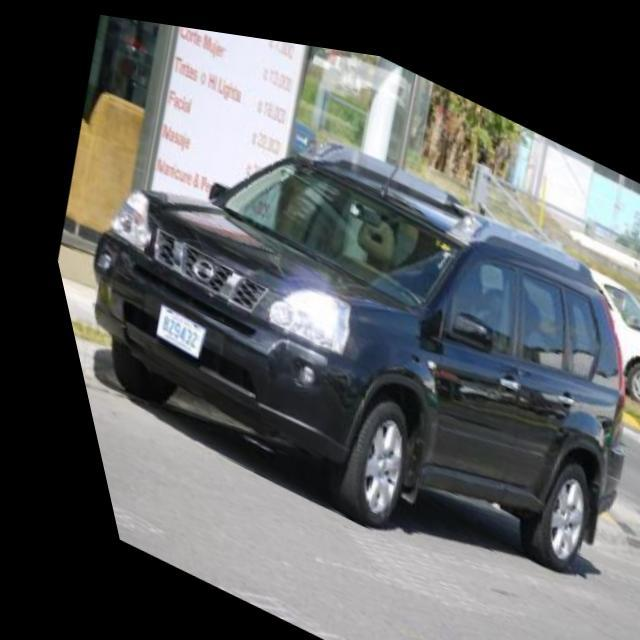license_plate: (132, 297, 200, 360)
